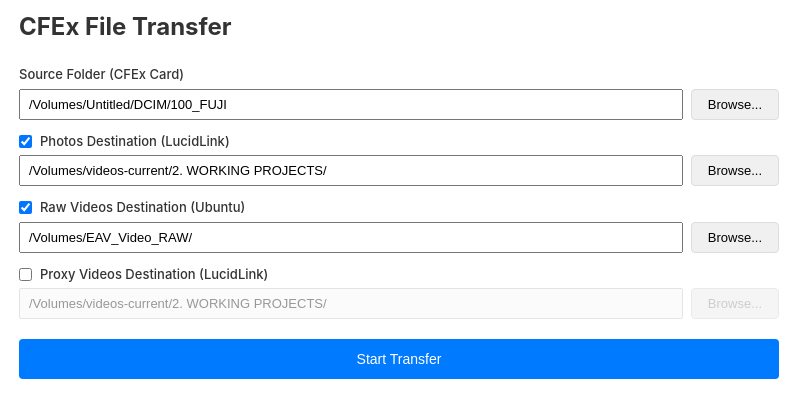
CfexTransferWindow › Destination Enable/Disable Checkboxes › disables photos input when photos checkbox unchecked
Expected: the field named "photos destination path" is enabled, top-left (19, 155), bottom-right (683, 186)
# Uncheck photos checkbox
Click the checkbox named "photos destination": {"x": 26, "y": 141} top-left (19, 135), bottom-right (32, 148)
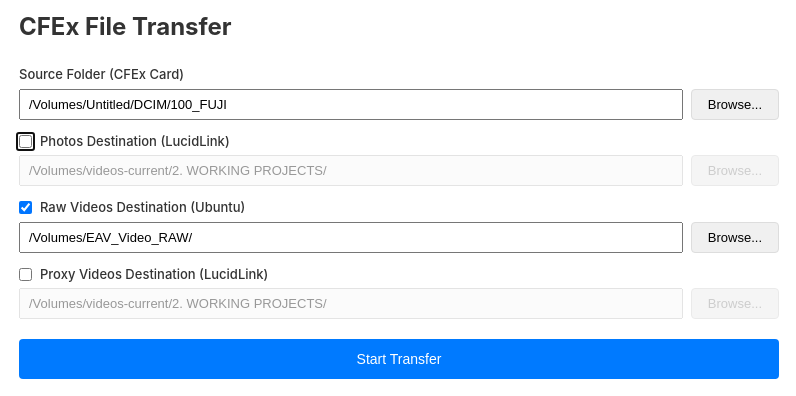
Expected: the field named "photos destination path" is disabled, top-left (19, 155), bottom-right (683, 186)
Expected: the 2nd button "Browse..." is disabled, top-left (691, 155), bottom-right (779, 186)
